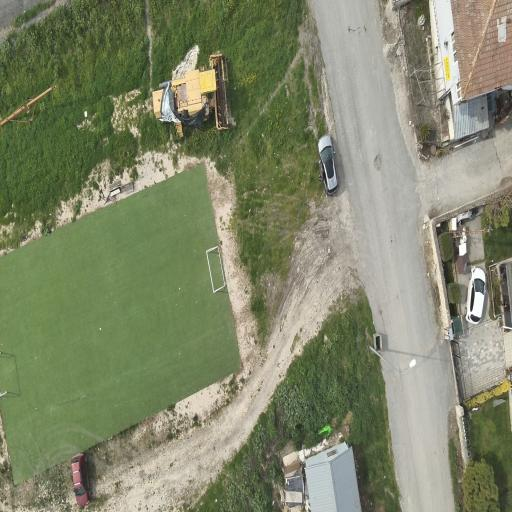car: (318, 134, 338, 194), (466, 266, 486, 324), (72, 454, 89, 506)
harvester: (153, 55, 231, 136)
